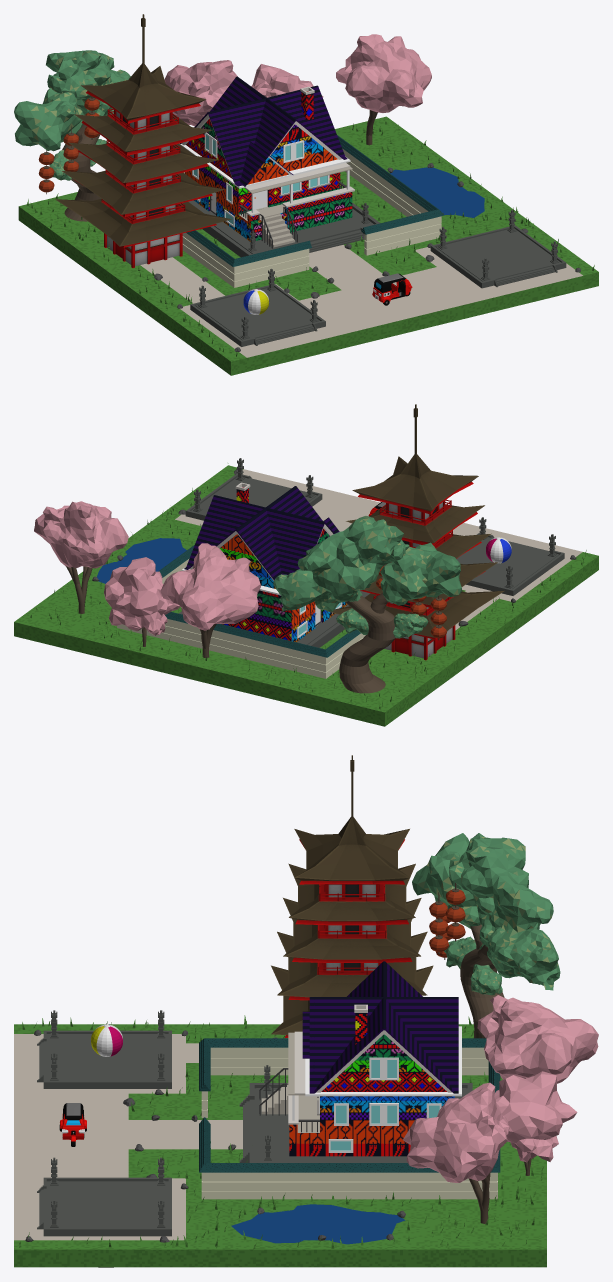
3 renders of one model, top to bottom at view 1: azimuth 30°, elevation 25°; view 2: azimuth 150°, elevation 25°; view 3: azimuth 270°, elevation 25°, orthographic. The views are drawn at different scales.
Visible parts, largest first — view 1: Cube.005, Cube.966, VEHICLES_TUC_TUC, OBJRANDOM_BEACHBALL; view 2: Cube.005, Cube.966, OBJRANDOM_BEACHBALL; view 3: Cube.005, Cube.966, VEHICLES_TUC_TUC, OBJRANDOM_BEACHBALL.
Part boxes in pixels (<box>): Cube.005: <box>14,14,598,375</box>; Cube.966: <box>179,76,354,248</box>; VEHICLES_TUC_TUC: <box>372,273,412,305</box>; OBJRANDOM_BEACHBALL: <box>243,289,268,314</box>; Cube.005: <box>14,404,598,726</box>; Cube.966: <box>181,482,347,642</box>; OBJRANDOM_BEACHBALL: <box>486,537,511,563</box>; Cube.005: <box>14,755,598,1267</box>; Cube.966: <box>259,961,461,1156</box>; VEHICLES_TUC_TUC: <box>59,1103,86,1146</box>; OBJRANDOM_BEACHBALL: <box>91,1024,122,1056</box>.
Bounding box in the file's own units: 4528 × 2663 × 4389.
41 materials, 9 textured.
